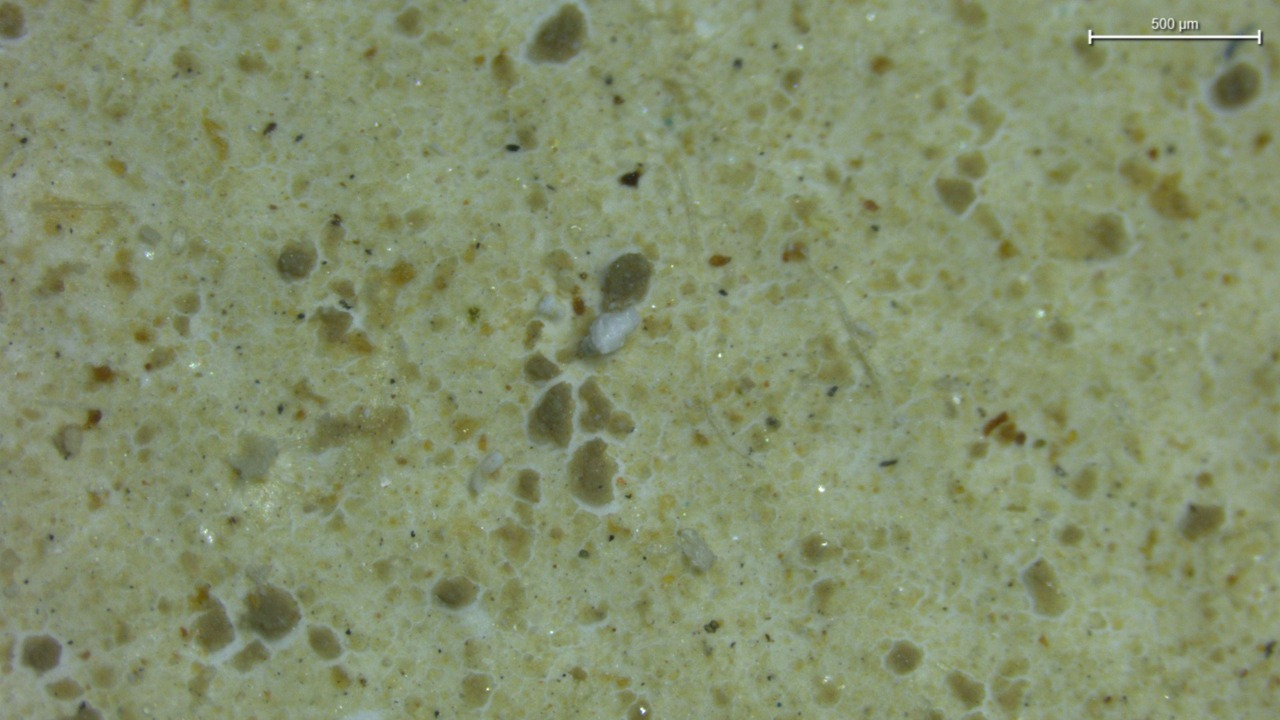microplastic_fragment: (582, 307, 640, 354), (677, 528, 714, 572), (469, 452, 504, 495), (537, 294, 563, 320)
